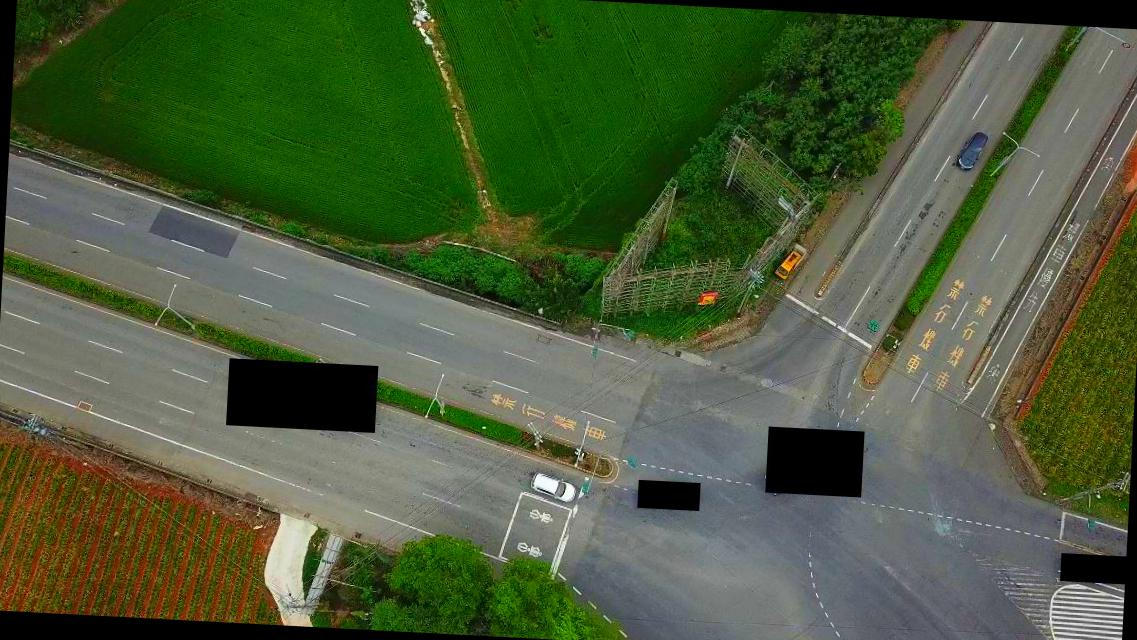vehicle: (524, 474, 576, 503), (954, 130, 988, 173), (774, 245, 802, 280)
